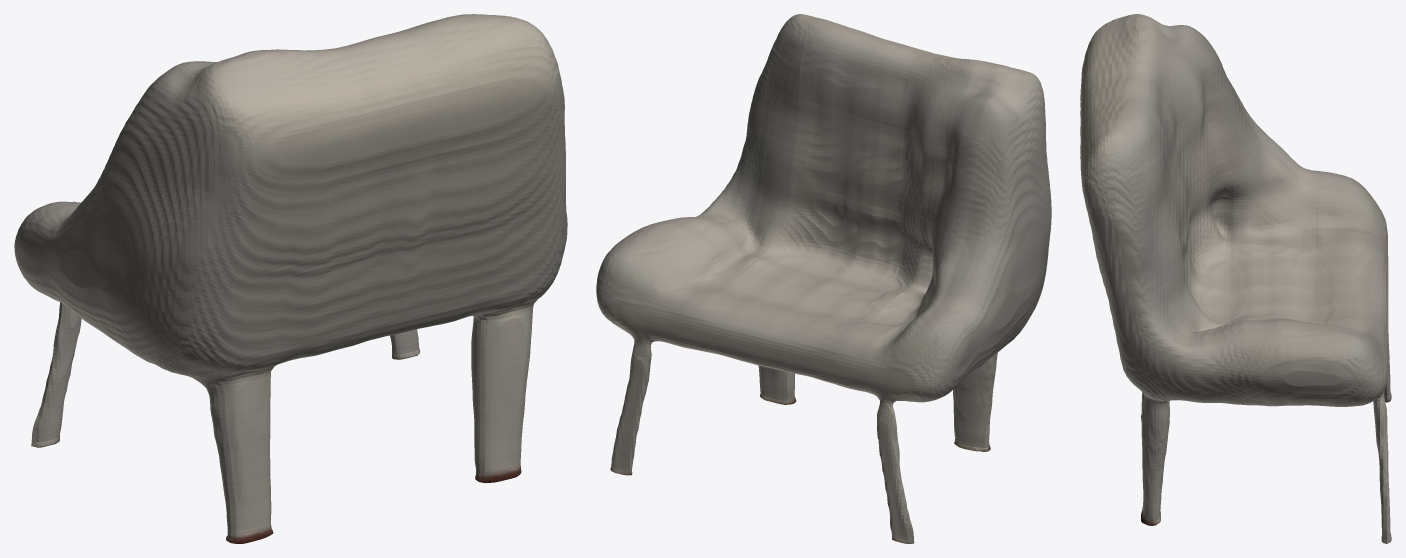
The picture shows the model from 3 angles, left to right: view 1: azimuth 30°, elevation 25°; view 2: azimuth 150°, elevation 25°; view 3: azimuth 270°, elevation 25°; orthographic projection. The views are drawn at different scales.
Visible parts, largest first — view 1: tmpoec4ozha.ply; view 2: tmpoec4ozha.ply; view 3: tmpoec4ozha.ply.
Part boxes in pixels (<box>): tmpoec4ozha.ply: <box>14,14,567,543</box>; tmpoec4ozha.ply: <box>596,14,1051,543</box>; tmpoec4ozha.ply: <box>1080,14,1391,543</box>.
Size of the model in its own units: 1.97 by 1.98 by 1.42.
